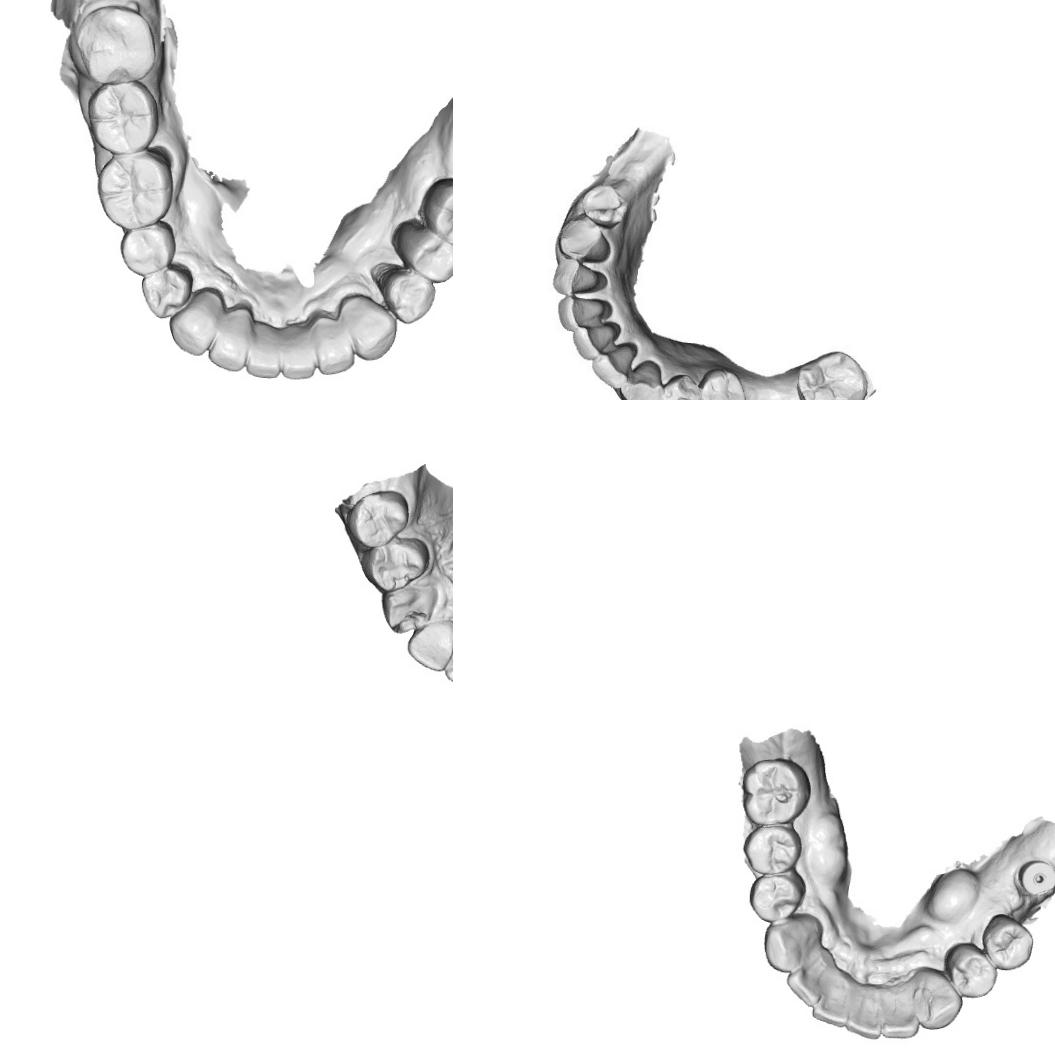canine: (340, 294, 398, 361), (762, 912, 824, 974), (168, 289, 224, 357), (908, 966, 963, 1030), (378, 585, 438, 637), (547, 257, 608, 299), (620, 356, 670, 400)
implant: (1014, 859, 1055, 897)
incisor: (207, 306, 252, 372), (405, 621, 453, 674), (316, 316, 356, 376), (588, 344, 640, 390), (572, 318, 623, 359), (280, 324, 316, 380), (245, 323, 281, 379), (880, 990, 920, 1039), (557, 294, 611, 330), (845, 991, 883, 1040), (810, 990, 850, 1032), (786, 966, 825, 1008)
molar: (75, 3, 158, 86), (95, 150, 174, 231), (86, 79, 160, 156), (740, 756, 812, 826), (796, 348, 875, 400), (421, 177, 453, 251)
premolar: (359, 534, 431, 596), (345, 488, 412, 550), (373, 260, 436, 324), (393, 221, 453, 284), (118, 218, 176, 278), (748, 866, 805, 924), (942, 941, 999, 999), (980, 912, 1034, 971), (742, 824, 802, 876), (140, 266, 194, 320), (574, 179, 630, 229), (559, 212, 610, 266), (698, 369, 745, 400), (657, 375, 707, 400)
